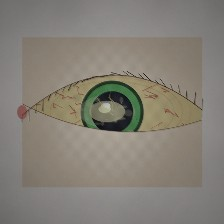corneal_ulcer: (78, 88, 136, 135)
